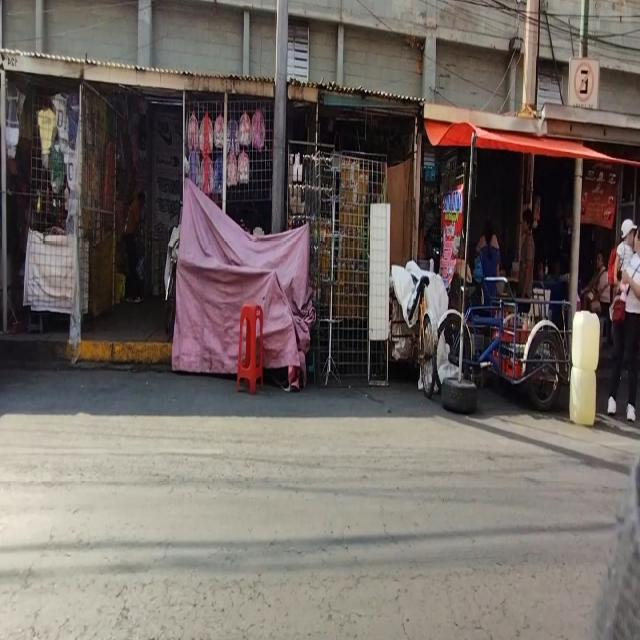adult: (608, 224, 640, 415), (125, 188, 145, 303), (582, 249, 610, 313), (516, 210, 534, 308)
